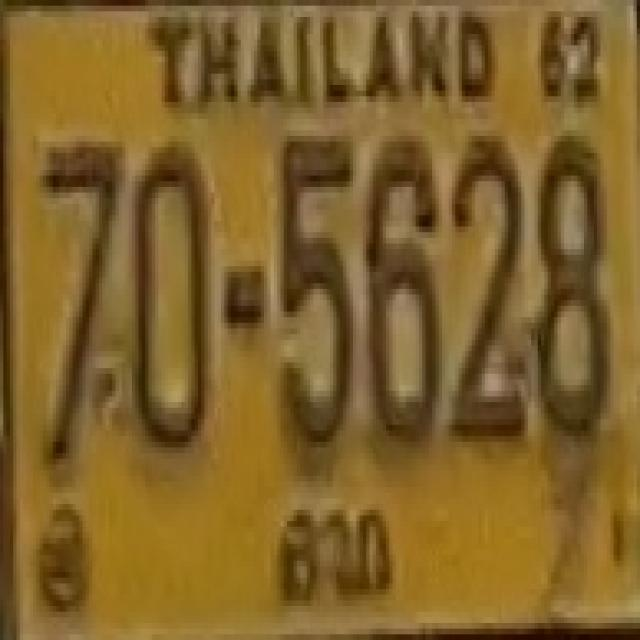0: (128, 138, 208, 444)
2: (449, 133, 521, 439)
5: (277, 130, 350, 459)
6: (361, 133, 437, 445)
7: (40, 136, 119, 459)
8: (531, 133, 607, 439)
TAK: (270, 484, 405, 620)
